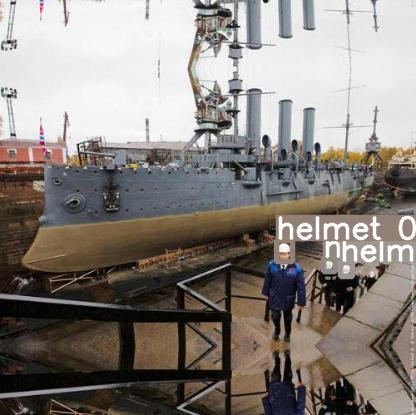helmet: (276, 240, 292, 261), (340, 262, 352, 276), (323, 258, 335, 271)
